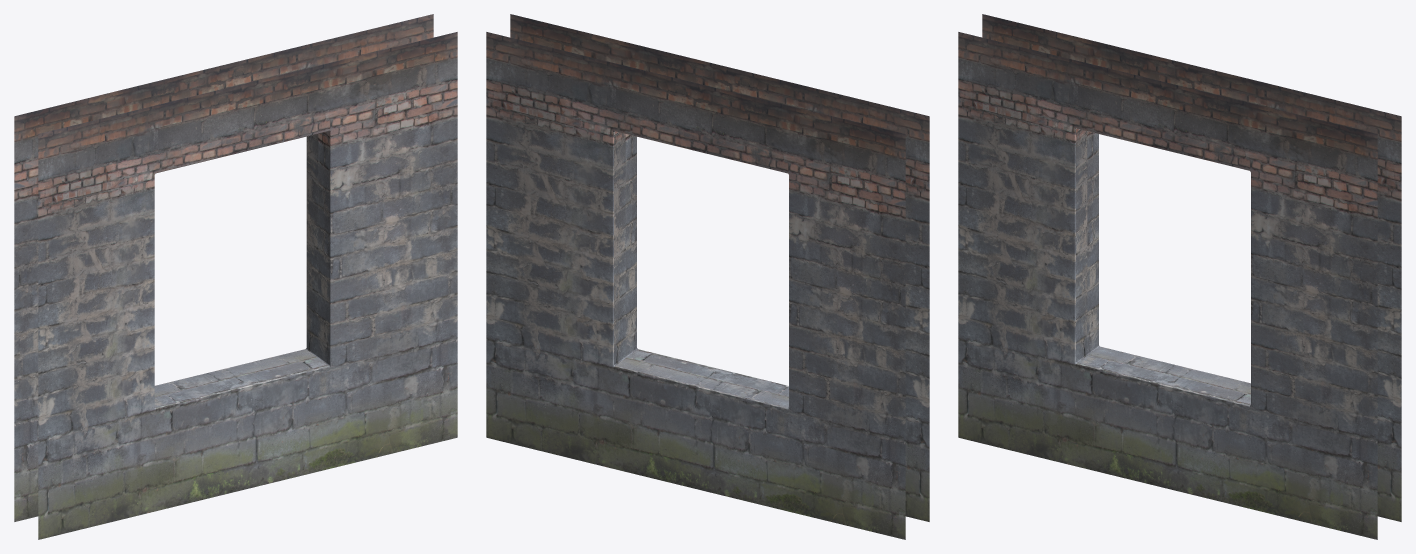
File: sm_Wall_06_13.fbx
3 renders of one model, left to right at view 1: azimuth 30°, elevation 25°; view 2: azimuth 150°, elevation 25°; view 3: azimuth 330°, elevation 25°, orthographic.
Parts seen in each view (by area): view 1: sm_Wall_06_13_LOD0; view 2: sm_Wall_06_13_LOD0; view 3: sm_Wall_06_13_LOD0.
Boxes of the visible parts, x1,y1,x2,y2 form: sm_Wall_06_13_LOD0: (14,14,457,539); sm_Wall_06_13_LOD0: (486,14,929,539); sm_Wall_06_13_LOD0: (958,14,1401,539).
Size of the model in its own units: 40.31 by 400 by 370.
